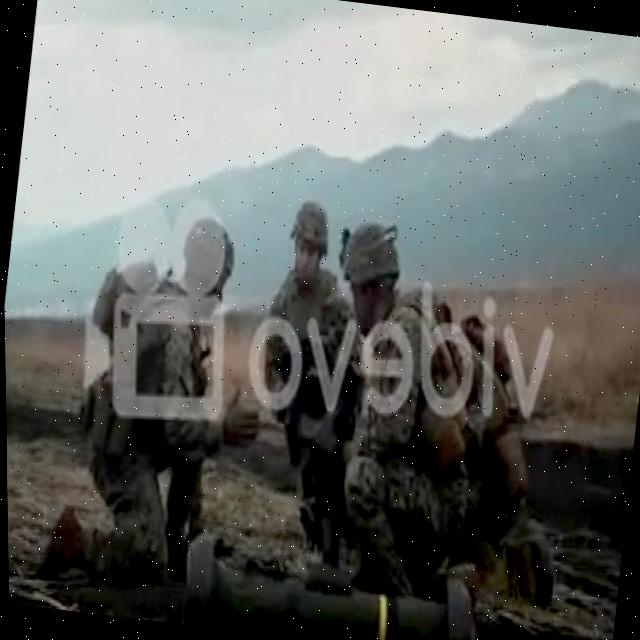rocket: (175, 506, 486, 640)
